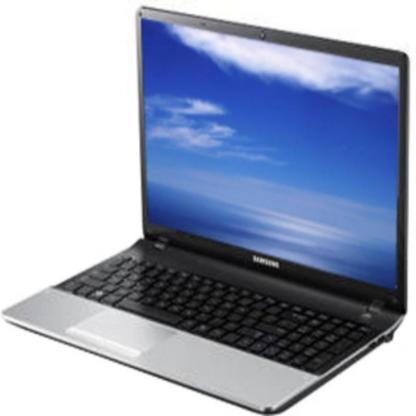board: (0, 6, 416, 411)
